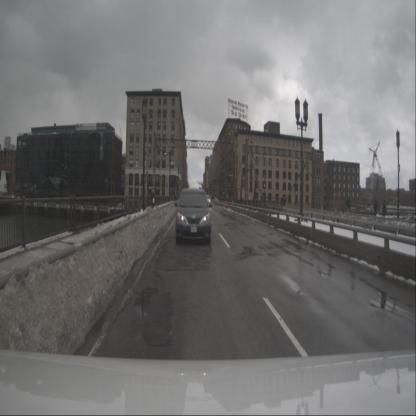vehicle-car: (176, 188, 211, 244), (204, 194, 211, 206)
